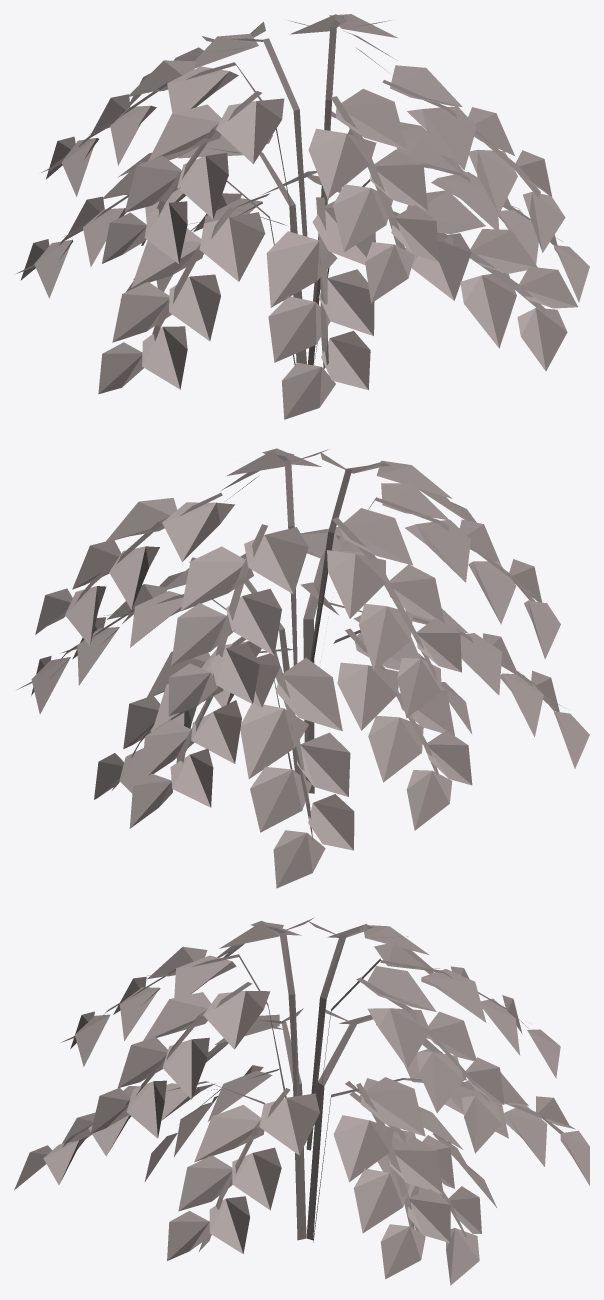
3 views of the same model, one above another, from view 1: azimuth 30°, elevation 25°; view 2: azimuth 150°, elevation 25°; view 3: azimuth 270°, elevation 25° (orthographic). The views are drawn at different scales.
Size of the model in its own units: 226 by 143 by 256.
1 material, 1 textured.
